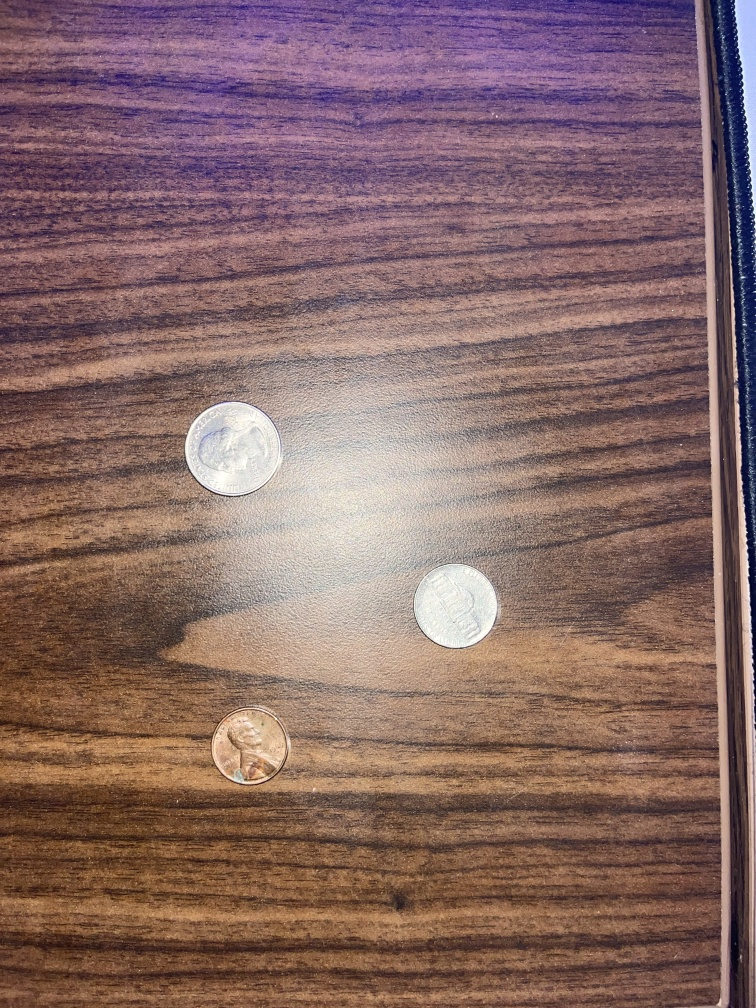nickel: (406, 560, 501, 655)
penny: (206, 703, 292, 793)
quarter: (181, 394, 284, 508)
